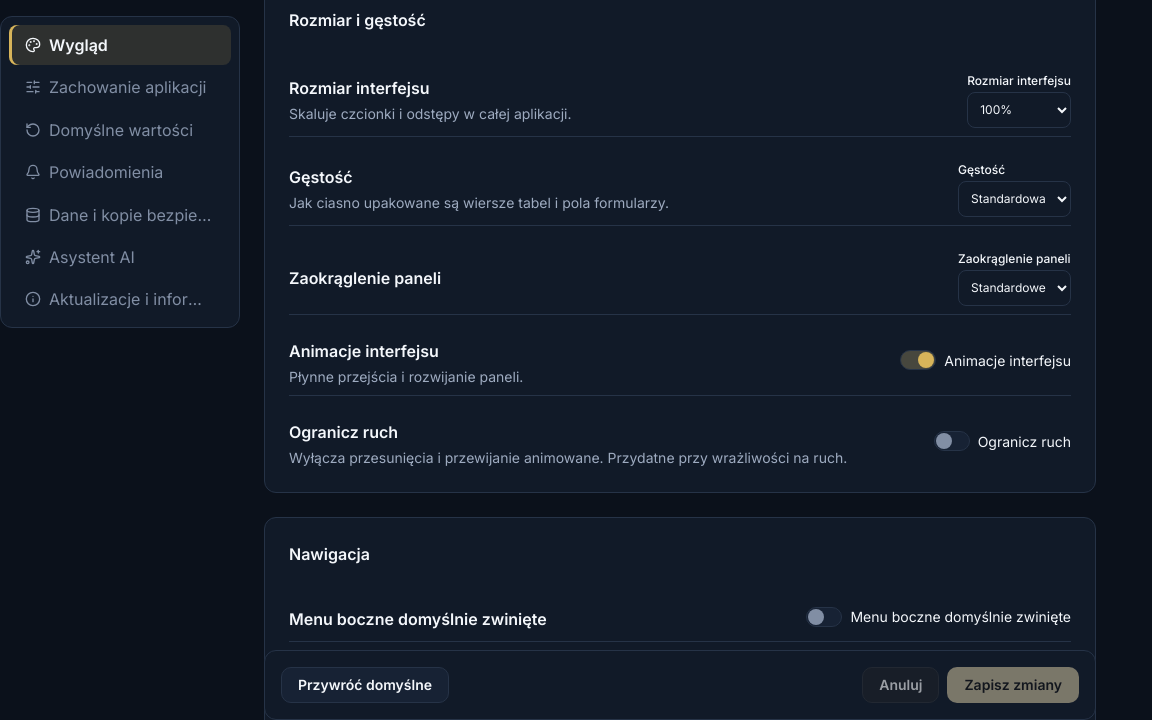
Test: SettingsPage › „Anuluj” przywraca stan sprzed edycji
(page scrolled)
What coordinates should you click on to do the following:
click the switch labelled "Animacje interfejsu"
I would click on:
 (986, 360)
Its box is [900,350,1071,371].
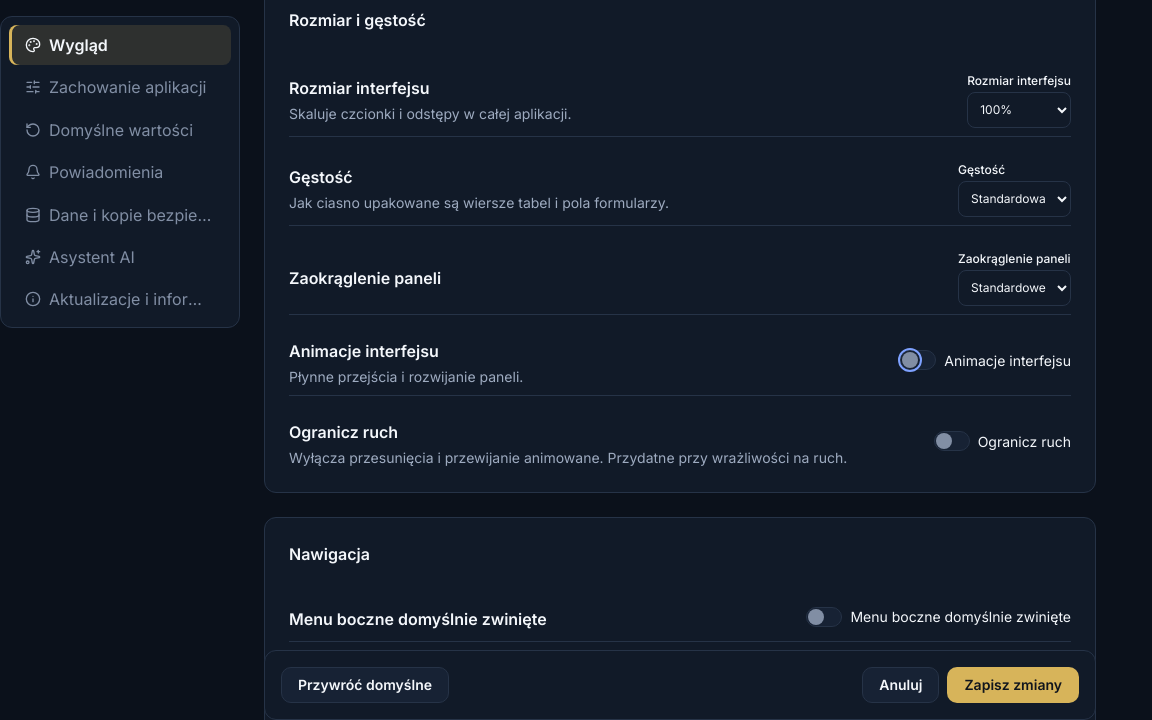
Check: the switch labelled "Animacje interfejsu" is not checked, box [900,350,1071,371]
What coordinates should you click on to do the following:
click the button "Anuluj"
I would click on:
 (901, 685)
Its box is [862,667,940,703].
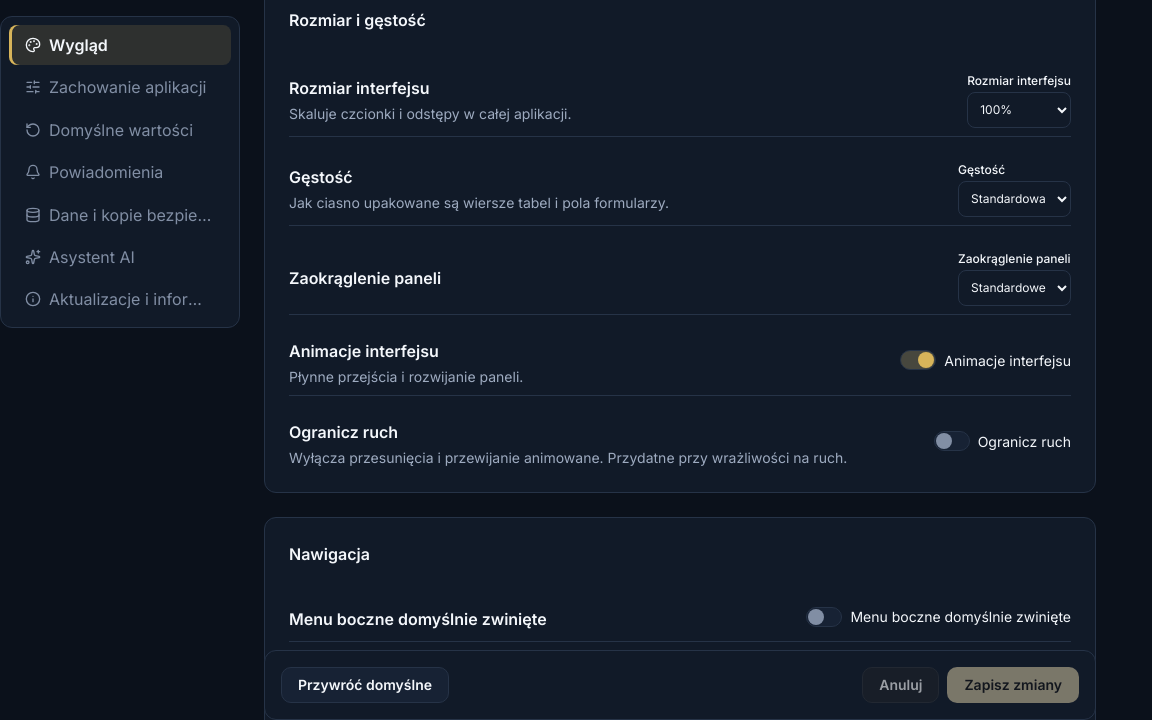
Check: the switch labelled "Animacje interfejsu" is checked, box [900,350,1071,371]
Check: the button "Zapisz zmiany" is disabled, box [948,667,1079,703]
